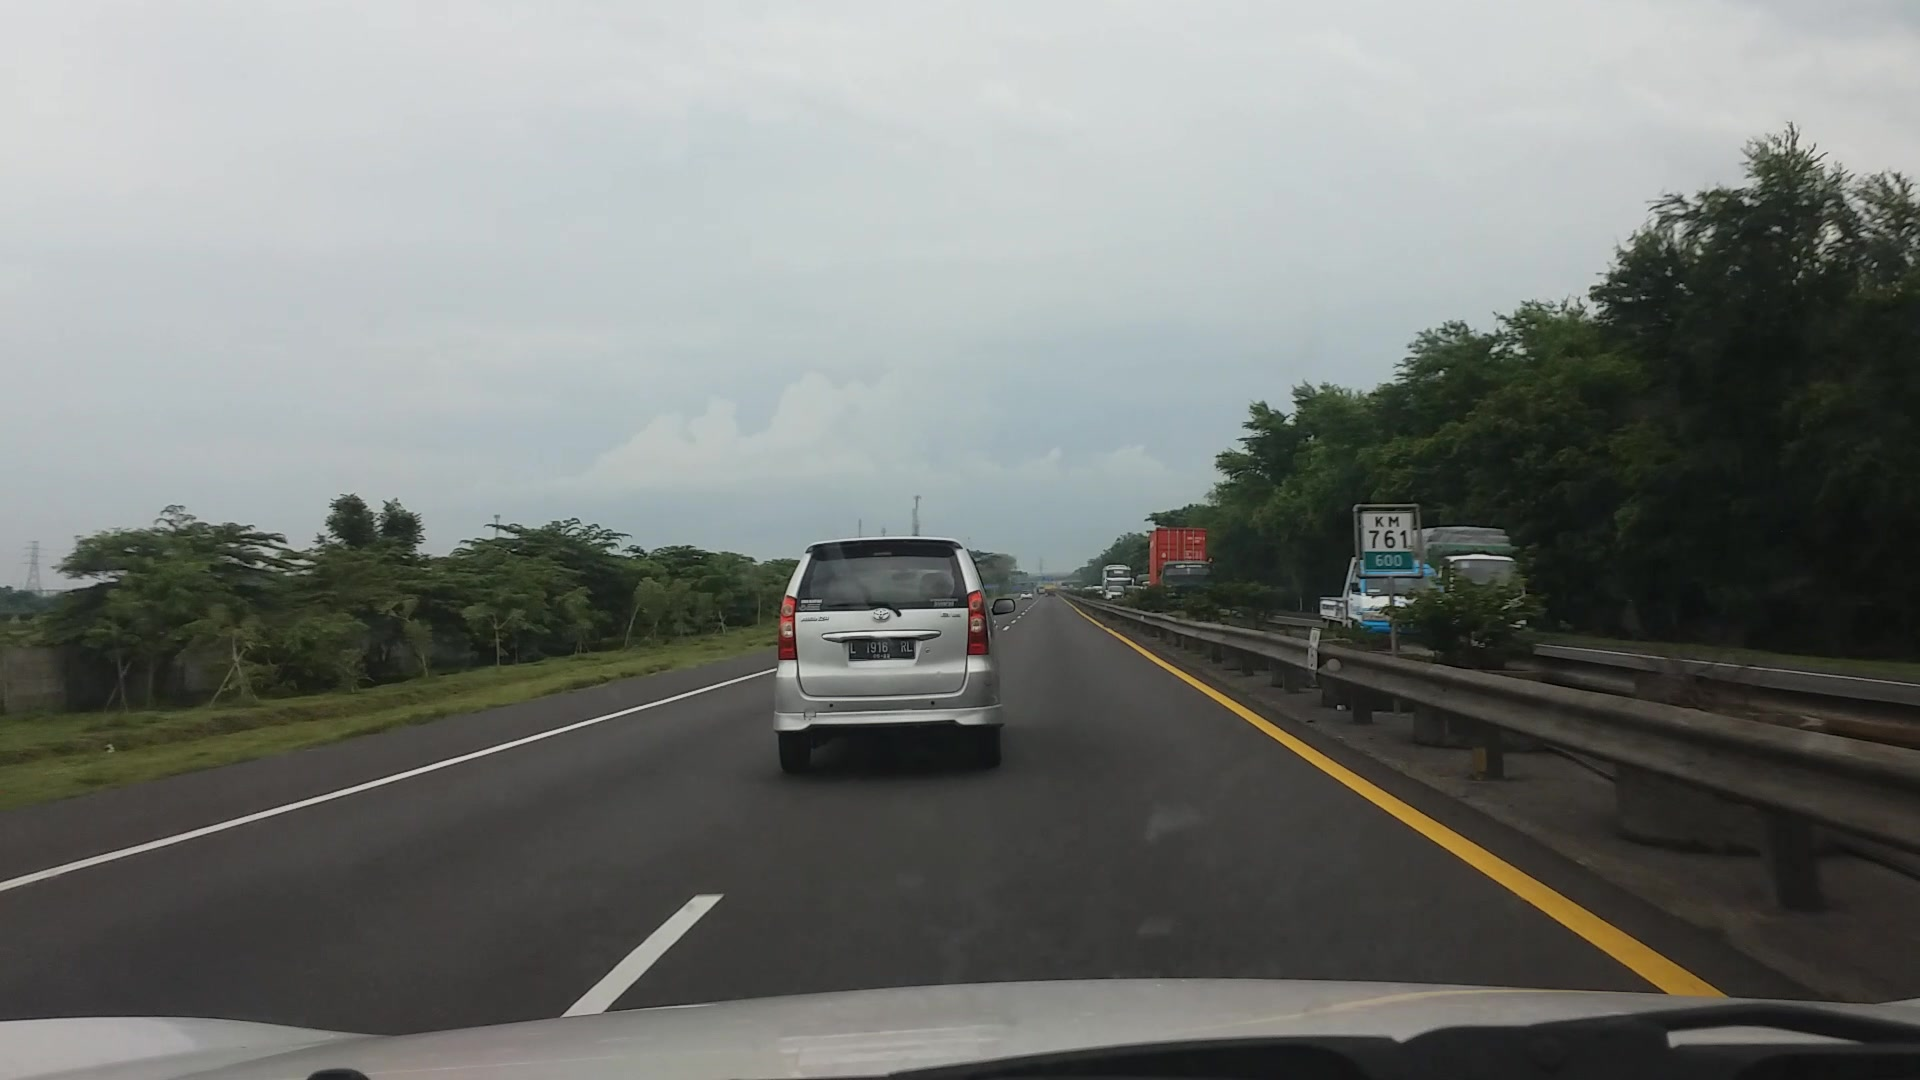plate_positive: (847, 638, 914, 659)
